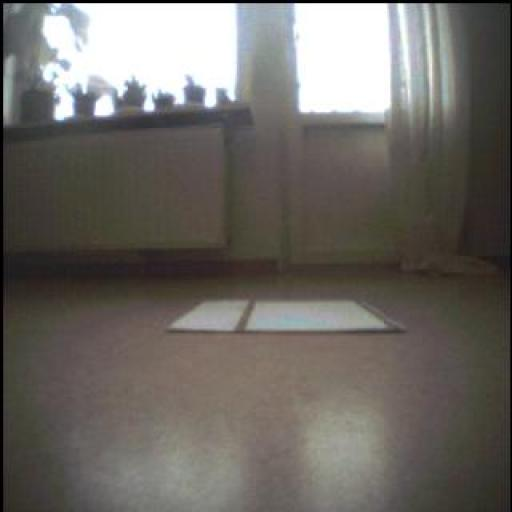Pad: (167, 295, 403, 345)
